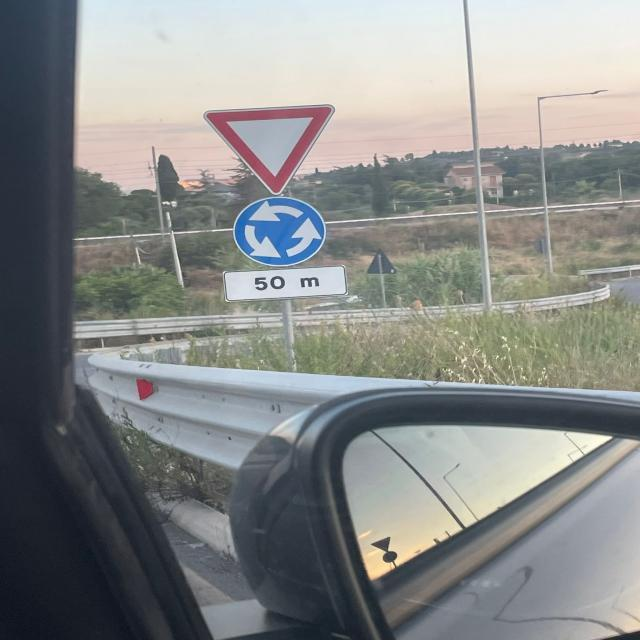prio_give_way: (204, 103, 335, 196)
